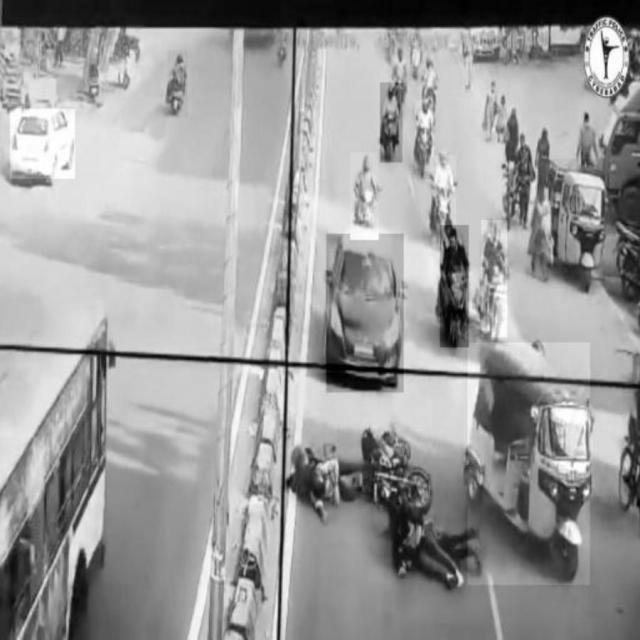accident: (284, 427, 481, 591)
vehicle: (468, 342, 590, 584), (327, 234, 404, 392), (540, 160, 606, 290), (10, 109, 74, 179), (440, 225, 468, 347), (481, 220, 507, 338), (350, 153, 378, 241), (433, 155, 457, 247), (379, 83, 403, 163), (415, 100, 433, 178), (168, 51, 188, 118)
